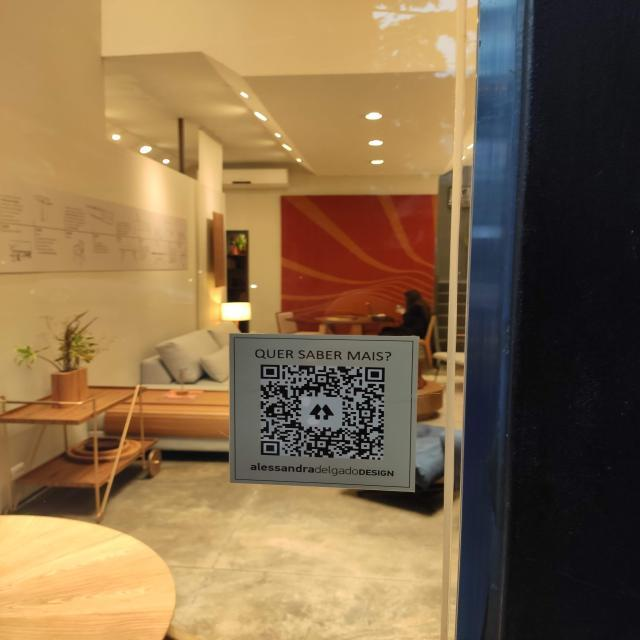qr-code: (260, 364, 385, 460)
